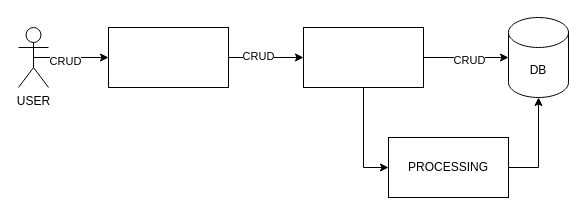
This 586x215 diagram has some shape labels left out. The shapes that lost their labels are listed below. From the top down, each one's centre as x and y in pixels, then its label:
At point (168, 57): "WEB CLIENT".
At point (363, 57): "API SERVER".
